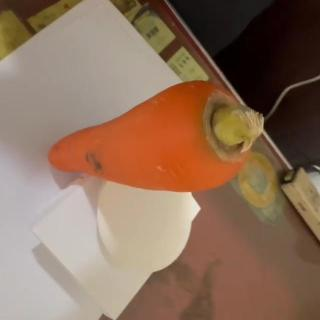carrot: (48, 81, 262, 193)
